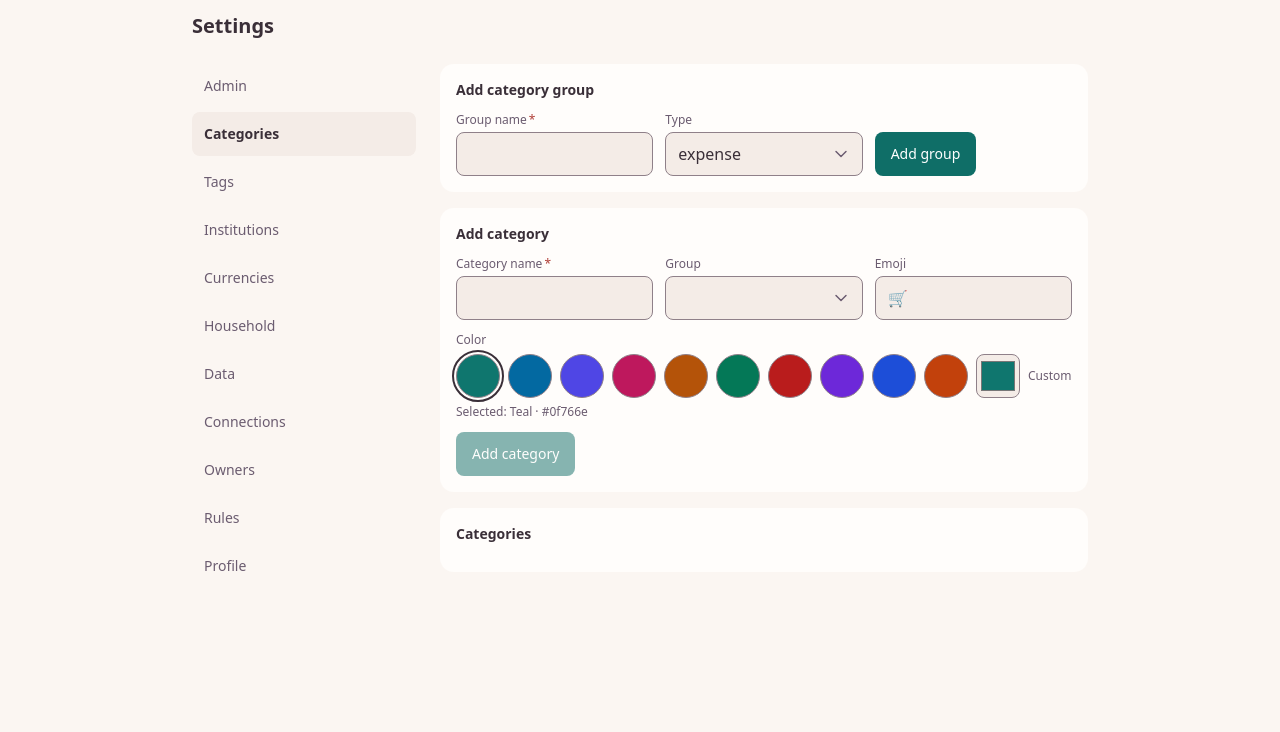
Settings → Data › says a member may not import instead of showing a form that would 403
The width and height of the screenshot is (1280, 732).
Click the tab with test id "settings-tab-data" at (304, 374), box [192, 352, 416, 396]
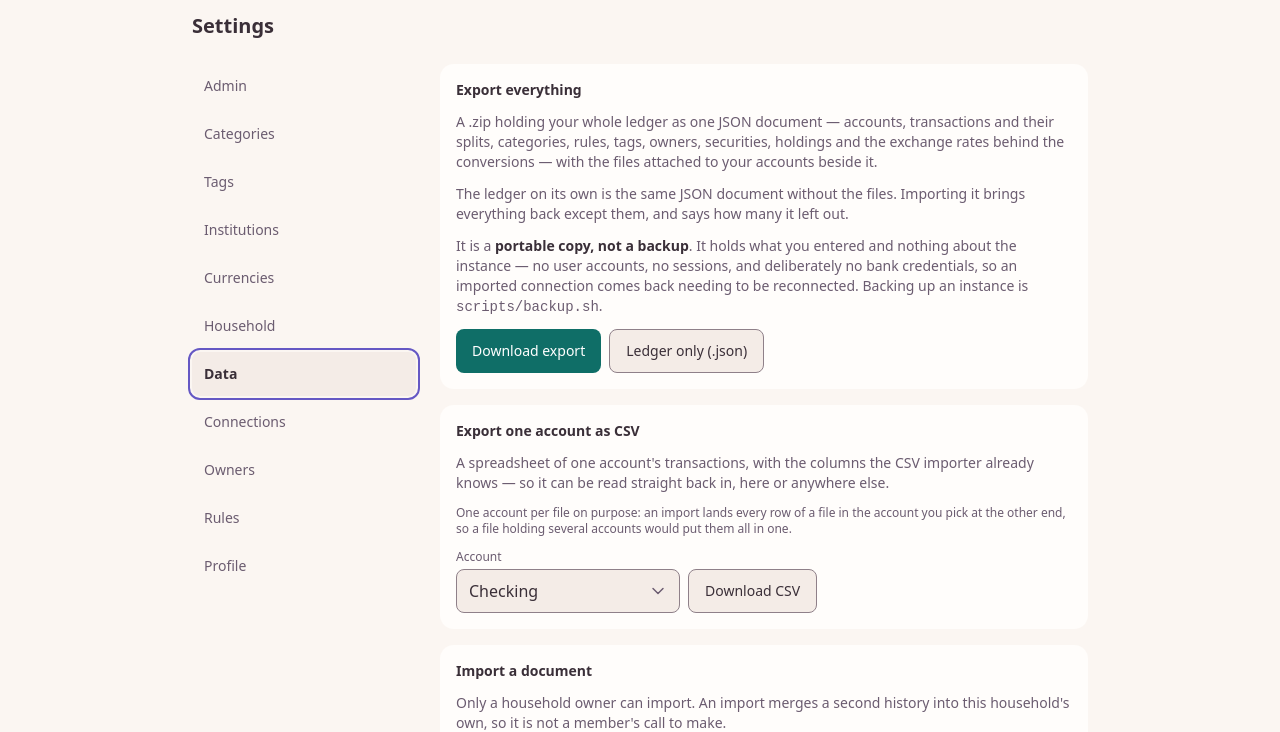
Now the text with test id "import-owner-only" is shown, box [456, 693, 1072, 731]
Now the button with test id "export-download" is shown, box [456, 329, 601, 373]
